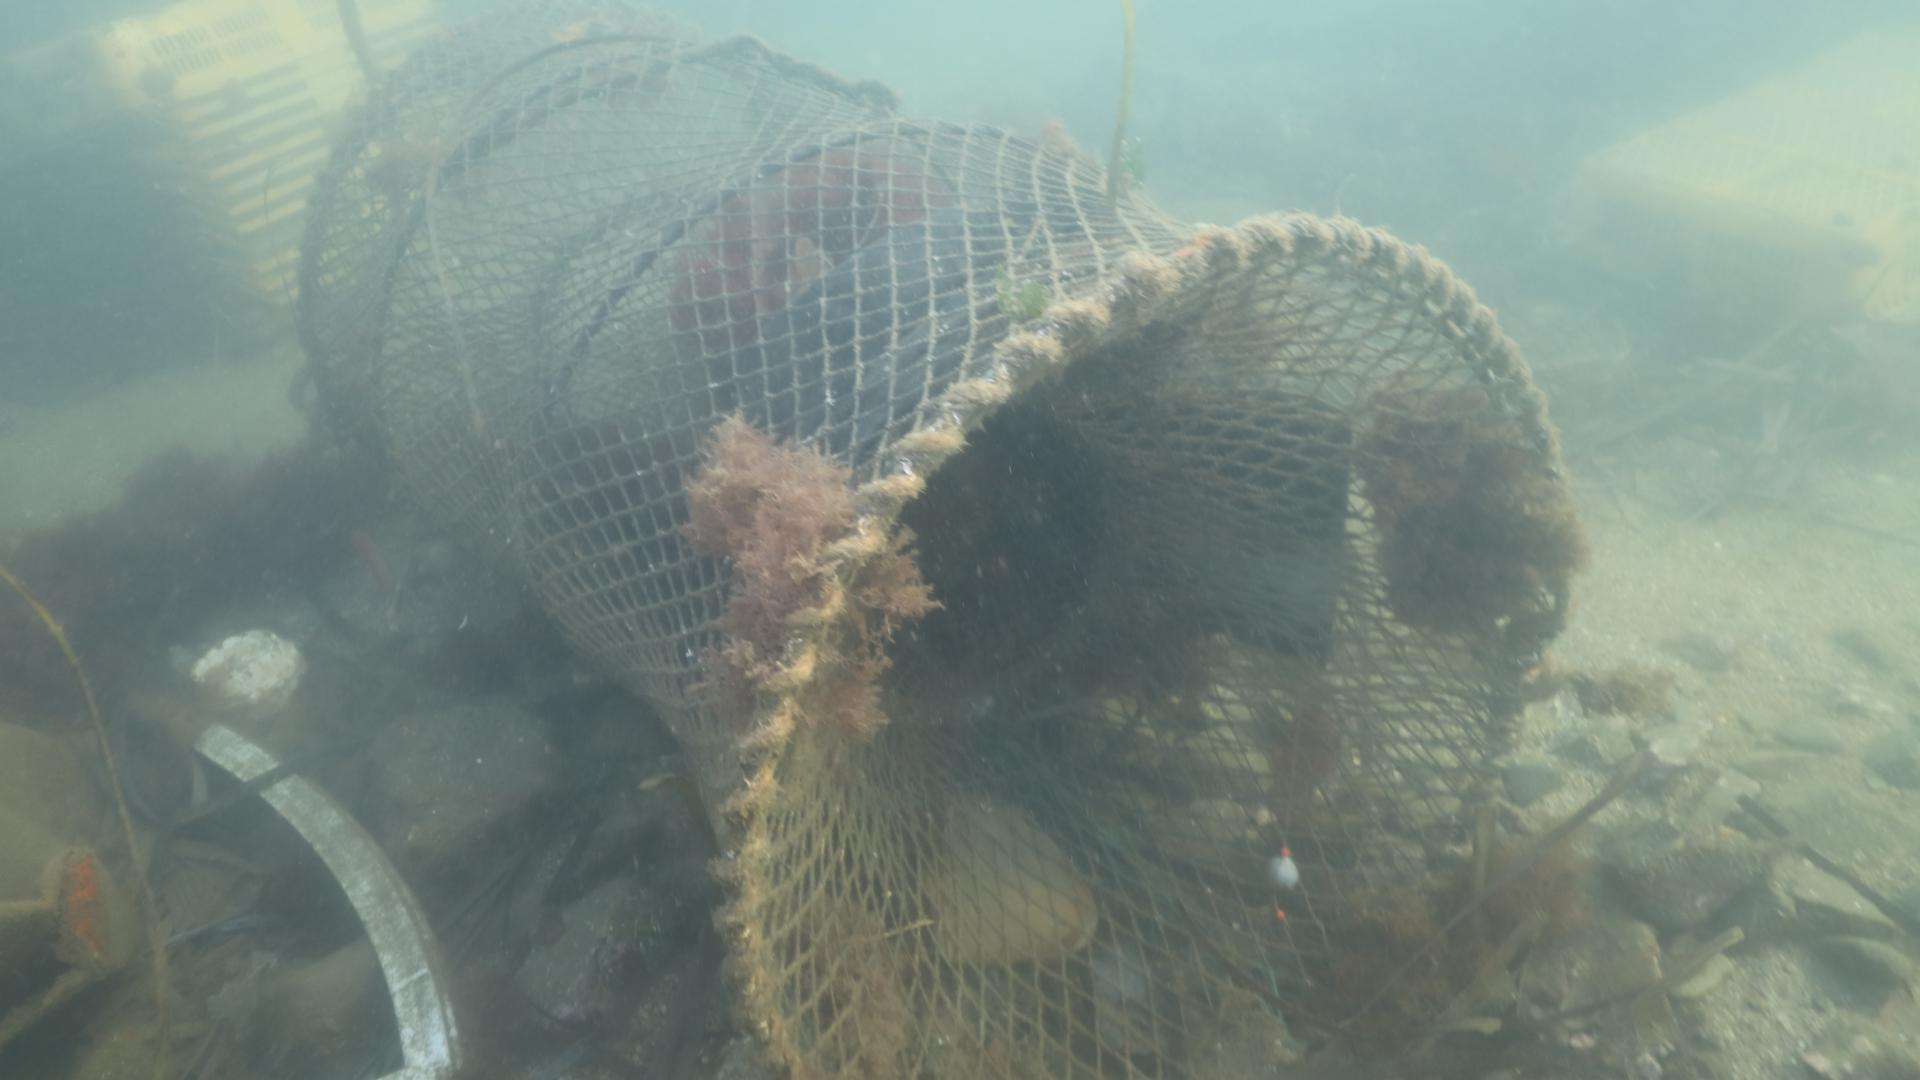spring fish trap: (291, 7, 1575, 1080)
